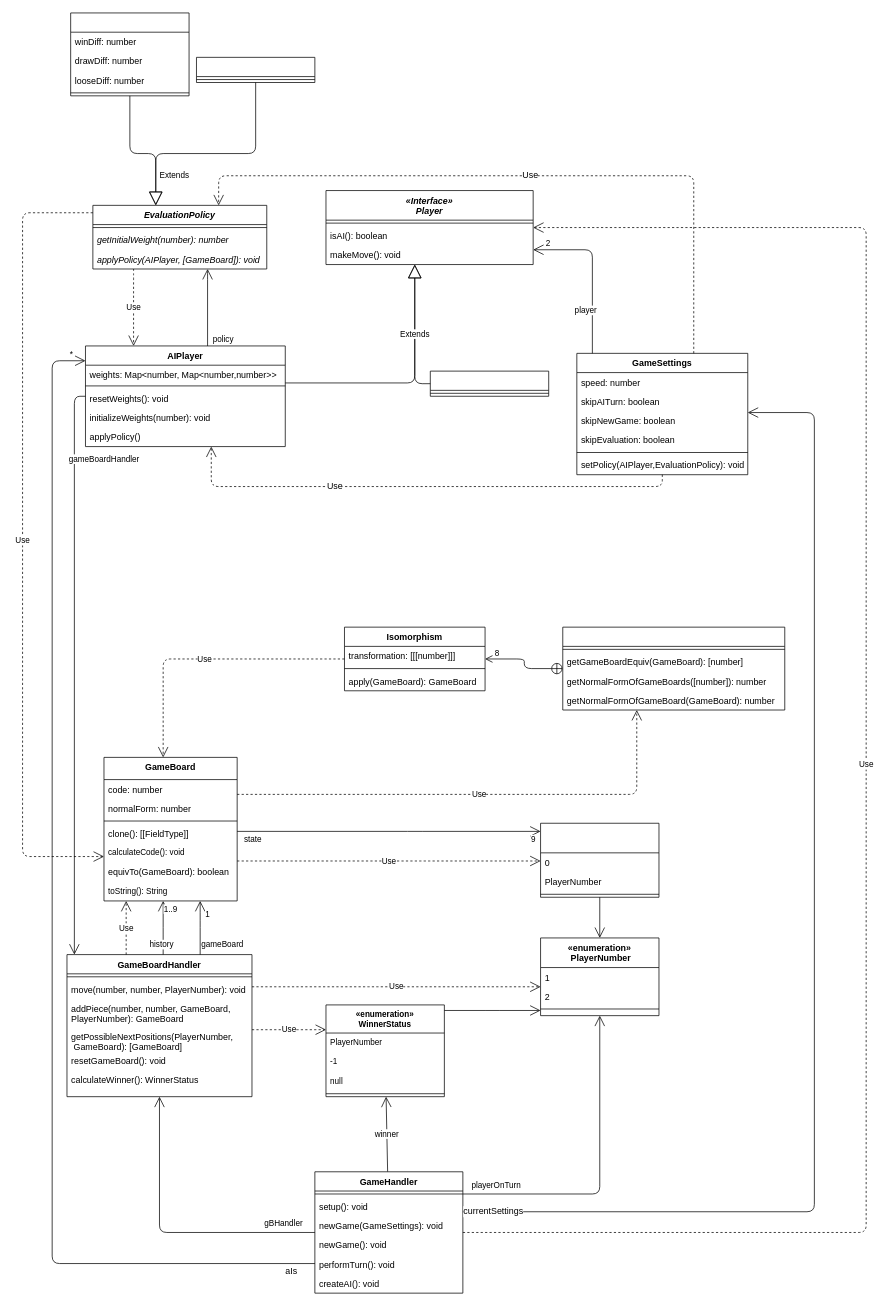
Some shapes in this 889 by 1308 pixel diagram are drawn without their labels. Here are the shapes that lost their labels. From the top down, the box of each, then its label:
(70, 12, 189, 96): BackPropagationPolicy
(196, 57, 315, 83): EliminationPolicy
(430, 370, 549, 396): UserPlayer
(562, 626, 785, 710): IsomorphismGroup
(540, 823, 659, 897): «enumeration» FieldType
